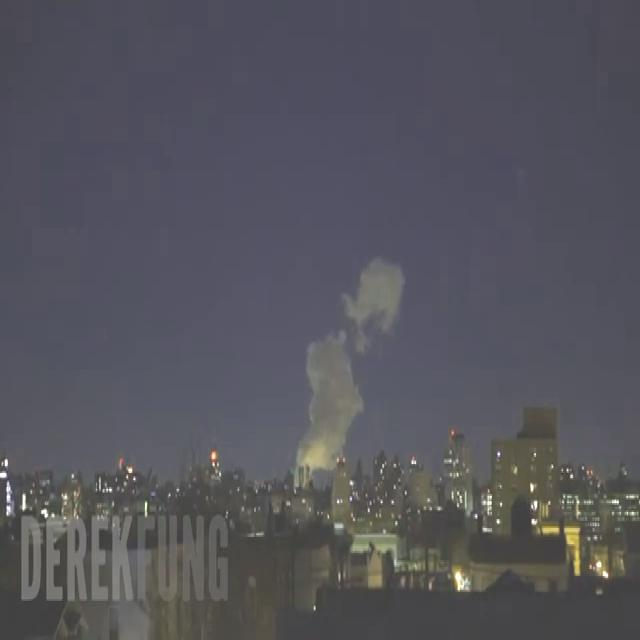smoke: (296, 329, 362, 487)
